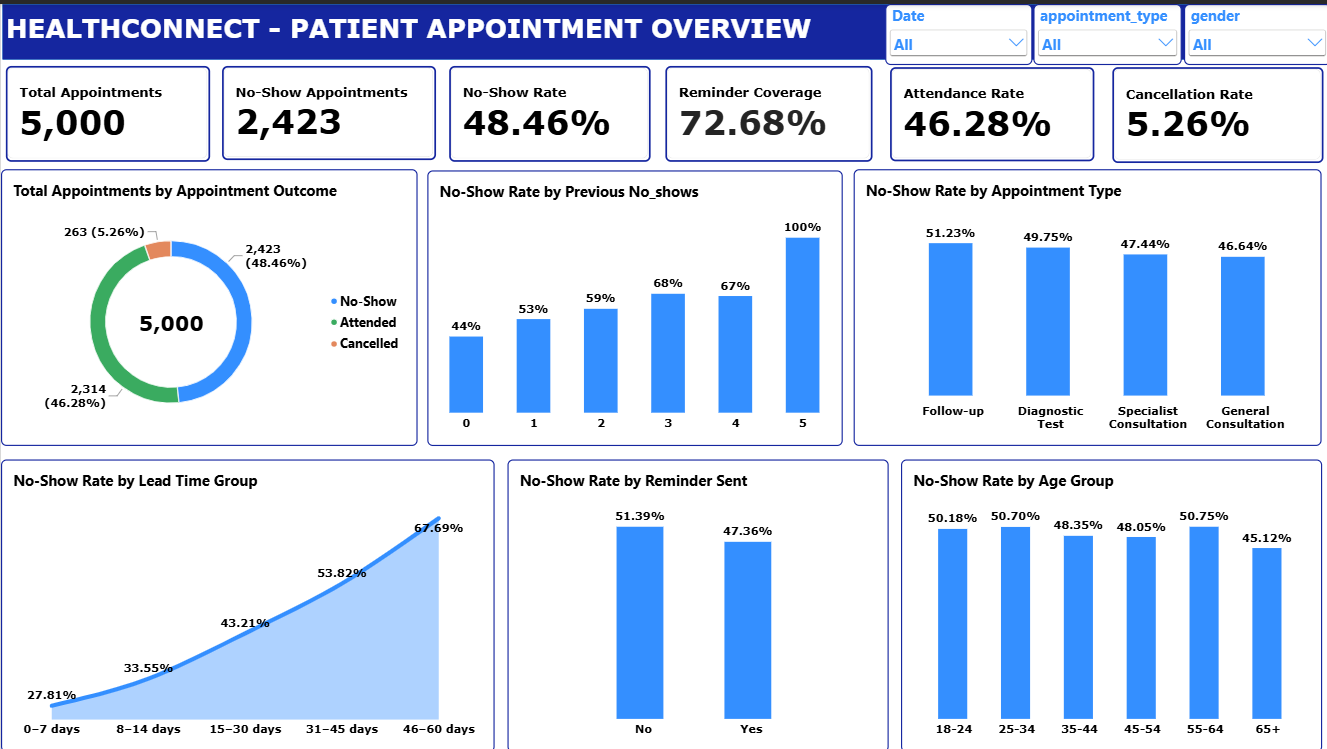

What the dashboard file says about the page in this screenshot:
{"tool":"powerbi","page":{"name":"OVERVIEW","canvas":[1920,1080],"ordinal":0},"visuals":[{"type":"shape","box":[2.1,0,1918.5,80.3],"z":0},{"type":"cardVisual","fields":{"Data":["Appointments.Total Appointments"]},"box":[6.2,88.5,294.4,137.9],"z":1000},{"type":"cardVisual","fields":{"Data":["Appointments.Cancellation Rate"]},"box":[1603.6,90.6,304.7,137.9],"z":2000},{"type":"cardVisual","fields":{"Data":["Appointments.Attendance Rate"]},"box":[1282.4,90.6,294.4,135.9],"z":3000},{"type":"cardVisual","fields":{"Data":["Appointments.No-Show Rate"]},"box":[646.4,88.5,290.2,137.9],"z":4000},{"type":"cardVisual","fields":{"Data":["Appointments.Reminder Coverage"]},"box":[959.3,88.5,298.5,137.9],"z":5000},{"type":"donutChart","title":"Total Appointments by Appointment Outcome","fields":{"Y":["Appointments.Total Appointments"],"Category":["Appointments.appointment_outcome"]},"box":[0,238.8,601.1,399.3],"z":6000},{"type":"lineChart","fields":{"Y":["Appointments.No-Show Rate"],"Category":["Appointments.Lead Time Group"]},"box":[0,656.7,712.2,422],"z":7000},{"type":"clusteredColumnChart","title":"No-Show Rate by Previous No_shows","fields":{"Category":["Appointments.previous_no_shows"],"Y":["Appointments.No-Show Rate"]},"box":[615.5,240.8,599,397.3],"z":8000},{"type":"clusteredColumnChart","title":"No-Show Rate by Reminder Sent","fields":{"Category":["Appointments.reminder_sent"],"Y":["Appointments.No-Show Rate"]},"box":[730.8,656.7,549.6,422],"z":9000},{"type":"clusteredBarChart","title":"No-Show Rate by Appointment Type","fields":{"Category":["Appointments.appointment_type"],"Y":["Appointments.No-Show Rate"]},"box":[1231,238.8,675.2,399.3],"z":10000},{"type":"clusteredColumnChart","title":"No-Show Rate by Age Group","fields":{"Y":["Appointments.No-Show Rate"],"Category":["Appointments.age_group"]},"box":[1298.9,656.7,607.3,422],"z":11000},{"type":"slicer","fields":{"Values":["Appointments.appointment_type"]},"box":[1490.4,0,214.1,88.5],"z":12000},{"type":"slicer","fields":{"Values":["DateTable.Date"]},"box":[1276.3,0,212,88.5],"z":13000},{"type":"slicer","fields":{"Values":["Appointments.gender"]},"box":[1706.5,0,212,88.5],"z":14000},{"type":"cardVisual","fields":{"Data":["Appointments.No-Show Appointments"]},"box":[319.1,88.5,308.8,135.9],"z":15000},{"type":"textbox","box":[6.2,10.3,1274.2,70],"z":16000}]}

Visuals, with their boxes in screenshot pixels (x1, y1, x2, y2), scaled from the page's 1920x1080 canvas onto the 1327x749 screenshot:
shape: bbox=(1, 0, 1326, 56)
cardVisual - Appointments.Total Appointments: bbox=(4, 61, 208, 157)
cardVisual - Appointments.Cancellation Rate: bbox=(1108, 63, 1319, 158)
cardVisual - Appointments.Attendance Rate: bbox=(886, 63, 1090, 157)
cardVisual - Appointments.No-Show Rate: bbox=(447, 61, 647, 157)
cardVisual - Appointments.Reminder Coverage: bbox=(663, 61, 869, 157)
"Total Appointments by Appointment Outcome" donutChart: bbox=(0, 166, 415, 443)
lineChart - Appointments.No-Show Rate x Appointments.Lead Time Group: bbox=(0, 455, 492, 748)
"No-Show Rate by Previous No_shows" clusteredColumnChart: bbox=(425, 167, 839, 443)
"No-Show Rate by Reminder Sent" clusteredColumnChart: bbox=(505, 455, 885, 748)
"No-Show Rate by Appointment Type" clusteredBarChart: bbox=(851, 166, 1317, 443)
"No-Show Rate by Age Group" clusteredColumnChart: bbox=(898, 455, 1317, 748)
slicer - Appointments.appointment_type: bbox=(1030, 0, 1178, 61)
slicer - DateTable.Date: bbox=(882, 0, 1029, 61)
slicer - Appointments.gender: bbox=(1179, 0, 1326, 61)
cardVisual - Appointments.No-Show Appointments: bbox=(221, 61, 434, 156)
textbox: bbox=(4, 7, 885, 56)
